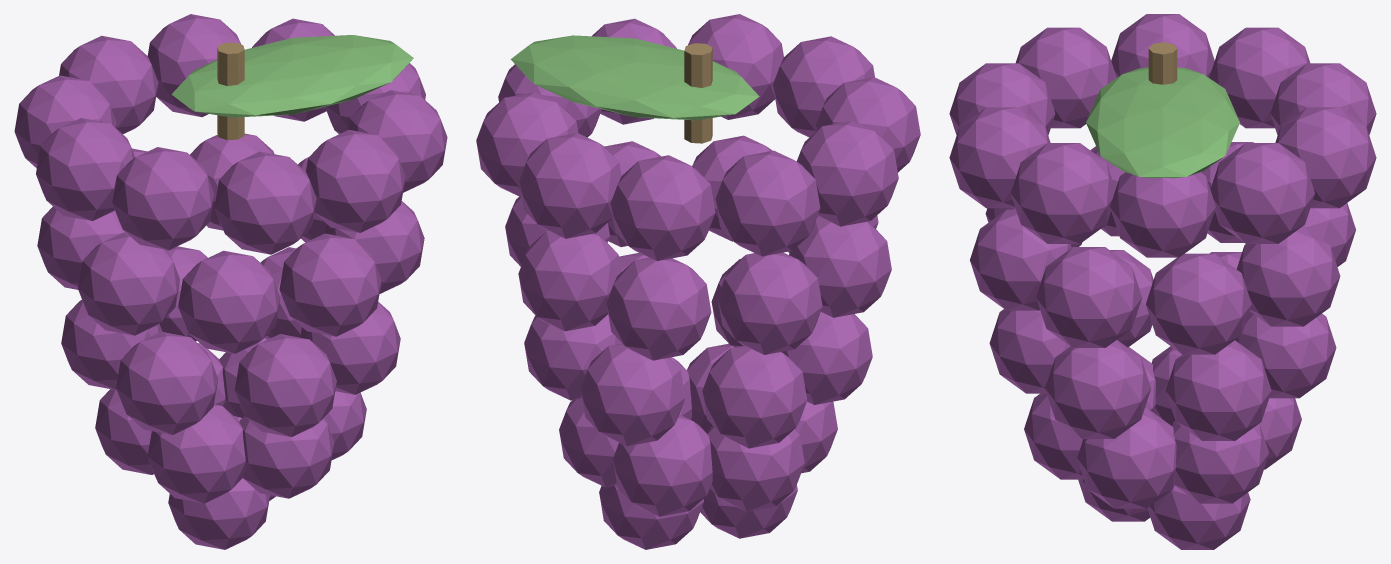
File: HOB_Fruit_Grapes.fbx
3 views of the same model, side by side, from view 1: azimuth 30°, elevation 25°; view 2: azimuth 150°, elevation 25°; view 3: azimuth 270°, elevation 25° (orthographic). The views are drawn at different scales.
Parts seen in each view (by area): view 1: HOB_Fruit_Grapes; view 2: HOB_Fruit_Grapes; view 3: HOB_Fruit_Grapes.
Part boxes in pixels (x1,y1,x2,y2): HOB_Fruit_Grapes: [14, 14, 447, 549]; HOB_Fruit_Grapes: [476, 14, 920, 549]; HOB_Fruit_Grapes: [949, 14, 1376, 549].
Bounding box in the file's own units: 164 × 200 × 159.
